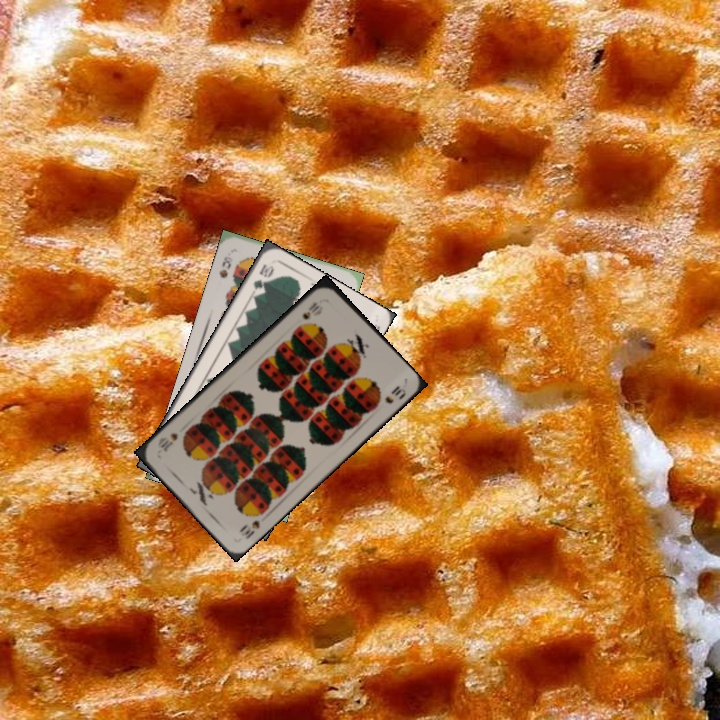G10: (248, 260, 276, 298)
S10: (235, 516, 263, 542), (298, 298, 322, 322)
S8: (215, 253, 234, 281)
